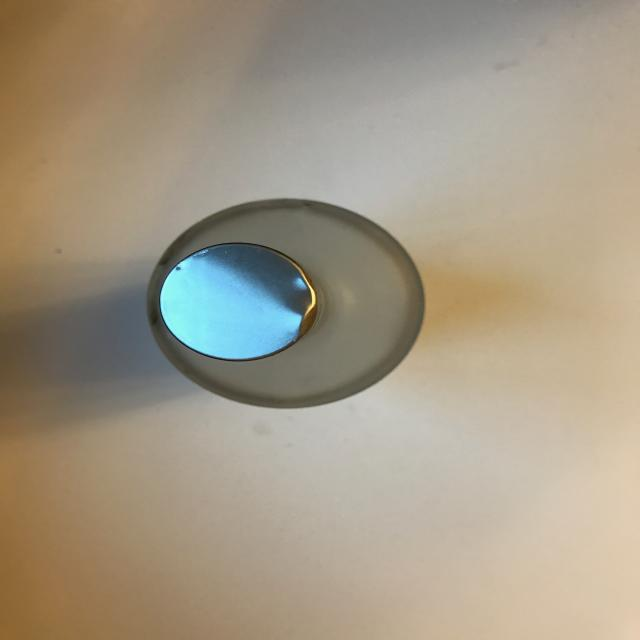glass: (145, 197, 426, 409)
